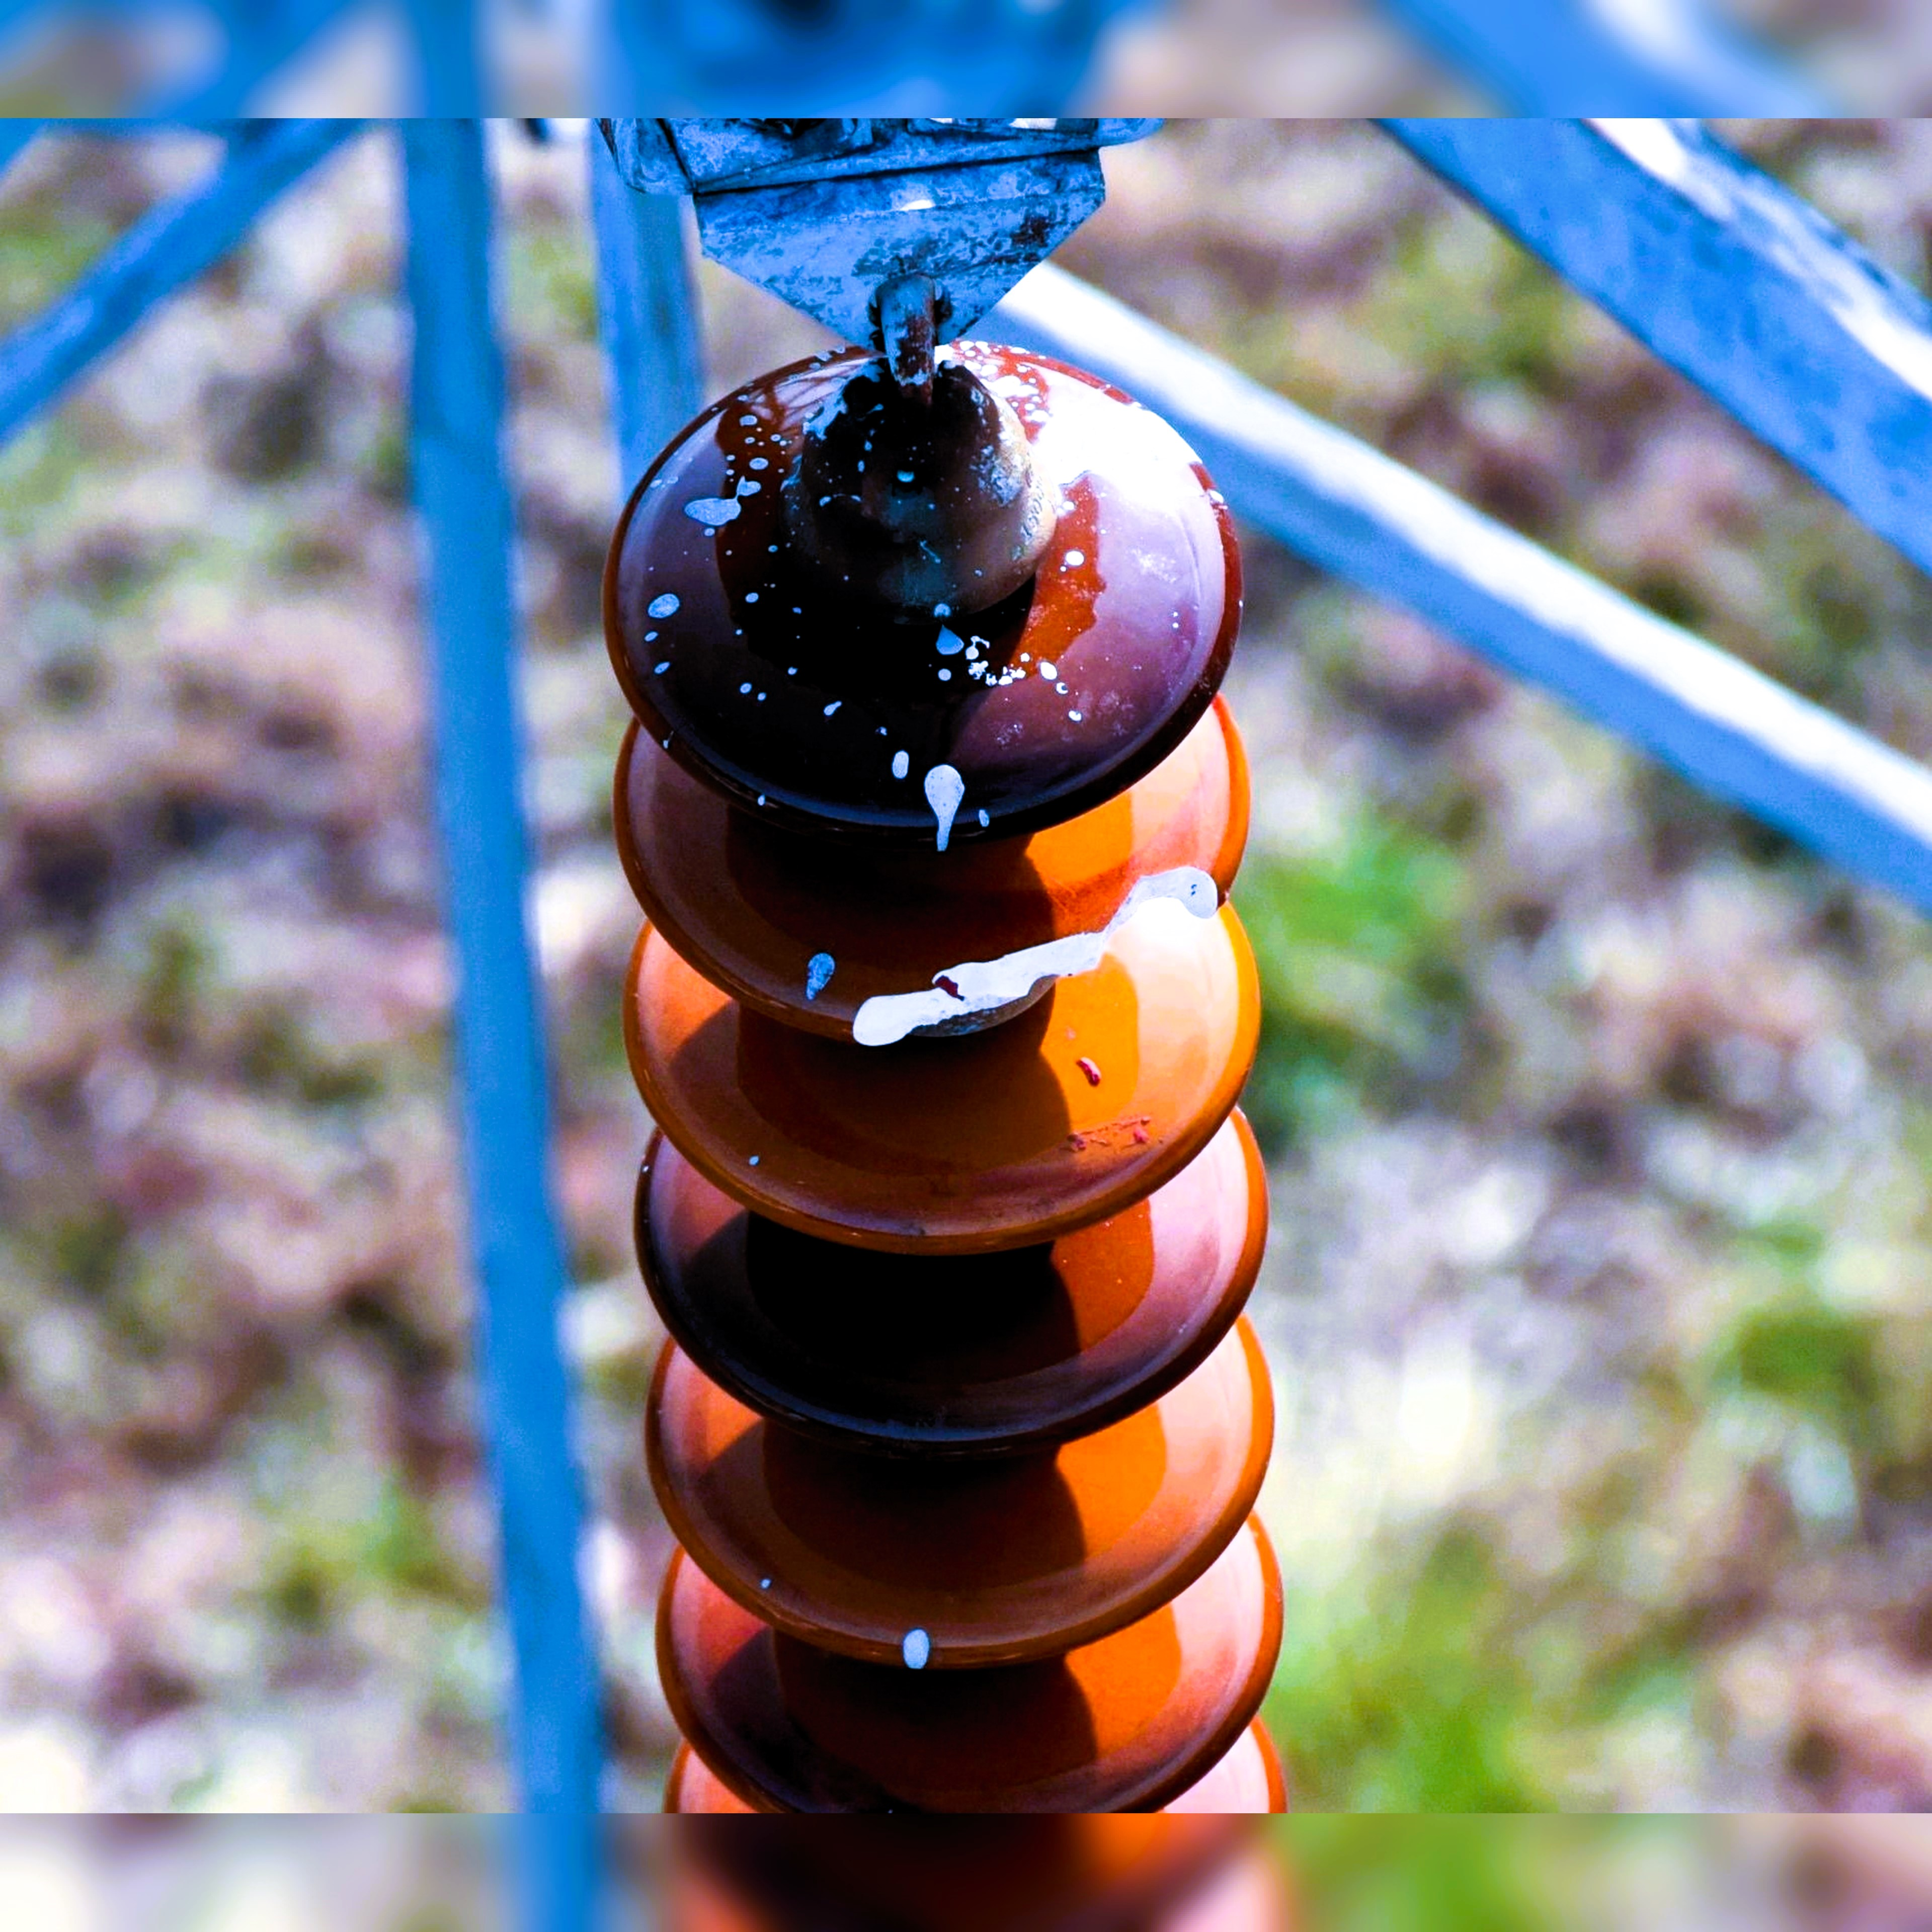insulator breakage: (589, 679, 1267, 1054)
